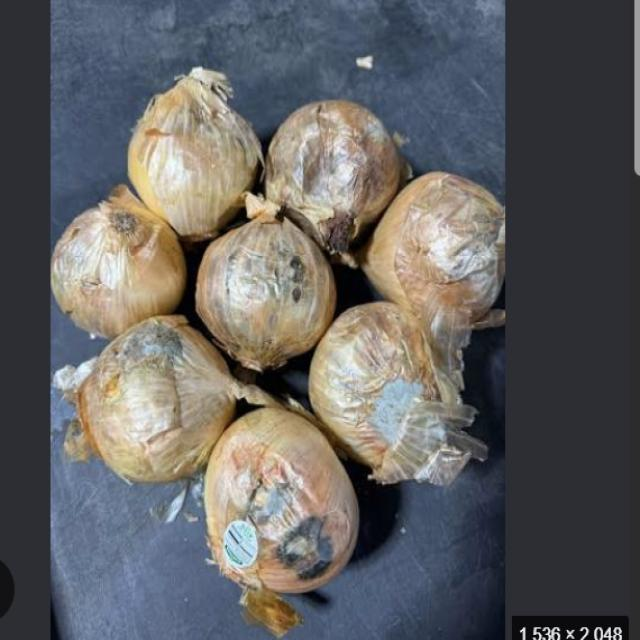rotten: (48, 60, 524, 575)
